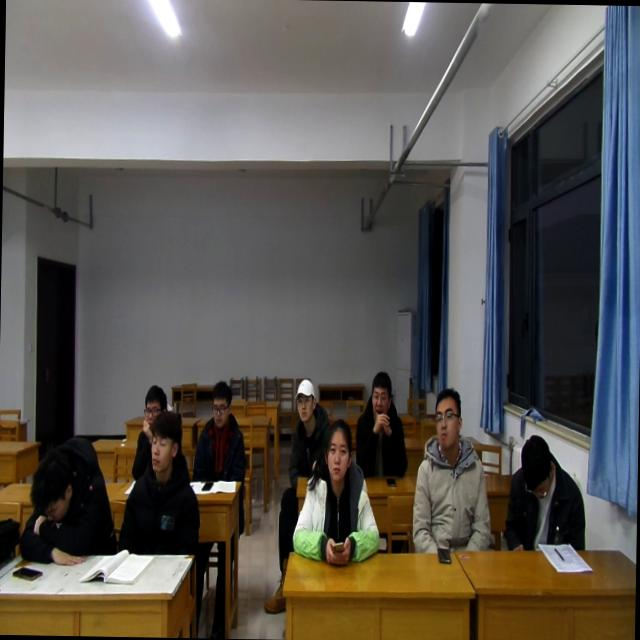bow: (18, 434, 120, 566)
down: (516, 429, 556, 501), (206, 378, 233, 428)
lookup: (321, 418, 355, 486), (147, 409, 182, 474), (431, 386, 464, 446), (368, 367, 398, 424), (292, 373, 318, 425), (140, 377, 167, 425)
sit: (291, 418, 384, 566), (412, 390, 494, 554), (118, 410, 202, 560), (504, 434, 586, 552), (354, 368, 410, 476), (191, 380, 247, 481), (285, 378, 332, 477), (131, 383, 167, 484)
